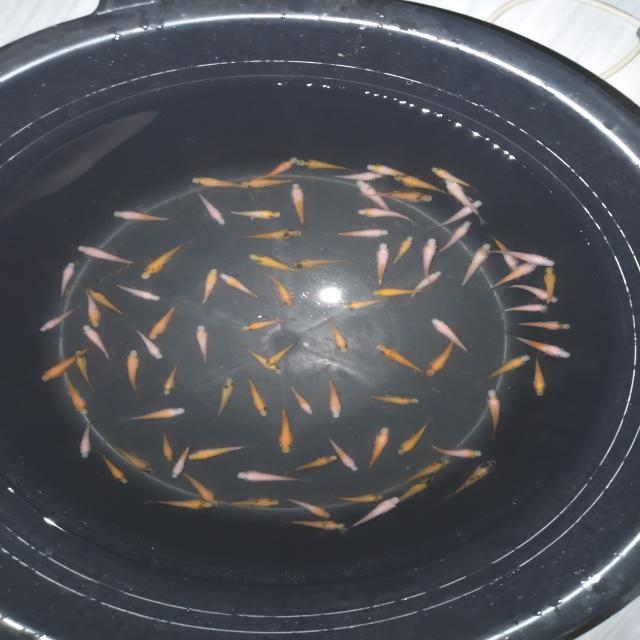nila: (138, 240, 198, 282), (355, 177, 399, 228), (442, 178, 488, 226), (446, 460, 500, 500), (423, 328, 466, 378), (427, 317, 478, 359), (432, 195, 489, 232), (39, 343, 89, 385), (346, 496, 404, 532), (504, 331, 572, 361), (484, 260, 546, 292), (103, 439, 157, 475), (374, 342, 428, 377), (398, 454, 454, 486), (390, 170, 450, 198), (474, 354, 530, 384), (180, 470, 222, 510), (486, 233, 523, 278), (488, 245, 558, 268), (321, 434, 362, 473), (458, 243, 492, 290), (351, 206, 421, 228), (395, 417, 433, 457), (190, 187, 228, 227), (250, 153, 298, 184), (419, 440, 488, 461), (498, 283, 562, 305), (437, 218, 472, 258), (147, 298, 180, 340), (216, 272, 262, 302), (74, 245, 134, 268), (184, 444, 253, 464), (240, 342, 283, 374), (83, 323, 114, 367), (112, 279, 164, 304), (130, 326, 166, 362), (262, 272, 296, 310), (366, 426, 394, 472), (246, 252, 304, 274), (394, 475, 436, 505), (428, 166, 480, 190), (243, 372, 269, 420), (361, 188, 438, 204), (94, 450, 128, 486), (482, 386, 503, 444), (82, 287, 125, 315), (74, 346, 100, 392), (282, 516, 348, 534), (410, 270, 447, 302), (169, 438, 197, 480), (120, 406, 189, 423), (281, 496, 334, 518), (288, 454, 340, 476), (64, 375, 90, 418), (138, 497, 212, 512), (294, 255, 352, 274), (274, 402, 294, 457), (37, 306, 76, 334), (240, 228, 308, 244), (112, 208, 175, 225), (422, 234, 441, 290), (192, 323, 215, 369), (262, 339, 298, 368), (322, 490, 386, 506), (228, 205, 284, 223), (324, 316, 349, 356), (236, 470, 312, 483), (81, 289, 105, 330), (221, 496, 282, 512), (56, 260, 78, 304), (76, 416, 97, 462), (363, 162, 411, 182), (364, 392, 424, 408), (190, 174, 250, 190), (508, 318, 576, 332), (340, 296, 392, 314), (531, 349, 549, 399), (290, 179, 308, 229), (215, 376, 236, 418), (239, 318, 301, 332), (326, 374, 344, 422), (326, 227, 392, 240), (375, 240, 392, 290), (125, 346, 142, 396), (288, 385, 315, 416), (200, 268, 222, 306), (162, 360, 184, 398), (240, 176, 298, 190), (365, 287, 432, 299), (295, 158, 352, 172), (392, 234, 415, 268), (328, 170, 395, 180), (496, 304, 552, 315), (542, 264, 556, 306), (158, 429, 174, 464)
